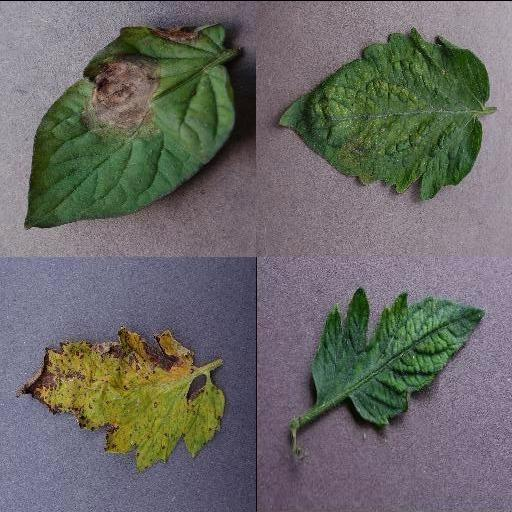Late Blight: (22, 21, 236, 229)
Mosaic Virus: (310, 285, 486, 425)
Septoria: (15, 327, 225, 470)
Spider Mites: (278, 26, 494, 200)
